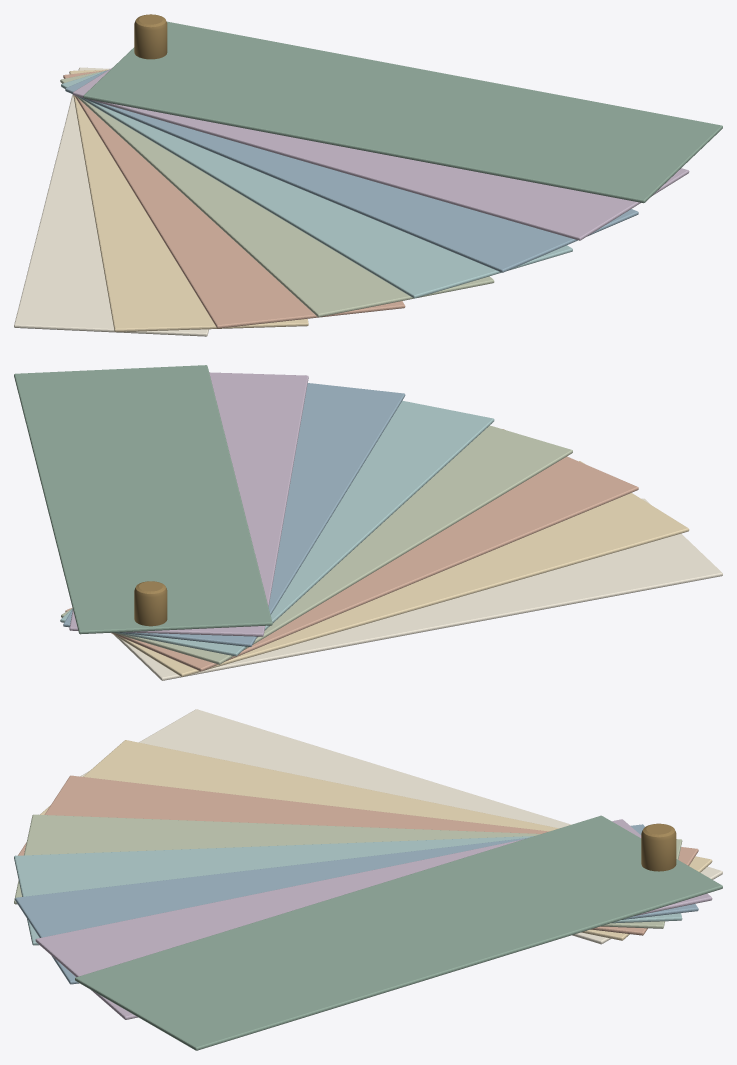
File: swatch-fan.glb
3 views of the same model, one above another, from view 1: azimuth 30°, elevation 25°; view 2: azimuth 150°, elevation 25°; view 3: azimuth 270°, elevation 25° (orthographic). The views are drawn at different scales.
Parts seen in each view (by area): view 1: Swatch leaf 7, Swatch leaf 6, Swatch leaf 5, Swatch leaf 4, Swatch leaf 3, Swatch leaf 2, Swatch leaf 1, Swatch leaf 0, Brass sample pivot; view 2: Swatch leaf 7, Swatch leaf 0, Swatch leaf 1, Swatch leaf 2, Swatch leaf 3, Swatch leaf 4, Swatch leaf 5, Swatch leaf 6, Brass sample pivot; view 3: Swatch leaf 7, Swatch leaf 6, Swatch leaf 5, Swatch leaf 4, Swatch leaf 2, Swatch leaf 3, Swatch leaf 1, Swatch leaf 0, Brass sample pivot.
Part boxes in pixels (box(x1,y1,x2,y2)): Swatch leaf 7: box(83, 21, 722, 203); Swatch leaf 6: box(72, 67, 689, 240); Swatch leaf 5: box(65, 70, 638, 272); Swatch leaf 4: box(61, 70, 572, 298); Swatch leaf 3: box(60, 70, 494, 317); Swatch leaf 2: box(63, 70, 405, 328); Swatch leaf 1: box(69, 69, 308, 331); Swatch leaf 0: box(14, 67, 208, 336); Brass sample pivot: box(134, 14, 167, 59); Swatch leaf 7: box(14, 365, 272, 634); Swatch leaf 0: box(114, 498, 722, 680); Swatch leaf 1: box(111, 461, 689, 676); Swatch leaf 2: box(65, 429, 638, 671); Swatch leaf 3: box(61, 425, 572, 664); Swatch leaf 4: box(60, 400, 494, 656); Swatch leaf 5: box(63, 383, 405, 646); Swatch leaf 6: box(69, 372, 308, 636); Brass sample pivot: box(134, 581, 167, 626); Swatch leaf 7: box(75, 815, 722, 1050); Swatch leaf 6: box(35, 819, 712, 1019); Swatch leaf 5: box(15, 824, 698, 984); Swatch leaf 4: box(14, 836, 682, 945); Swatch leaf 2: box(18, 775, 698, 935); Swatch leaf 3: box(14, 814, 682, 928); Swatch leaf 1: box(40, 740, 712, 940); Swatch leaf 0: box(80, 709, 722, 944); Brass sample pivot: box(641, 823, 676, 871).
Bounding box in the file's own units: 0.2731 × 0.0231 × 0.2228.
